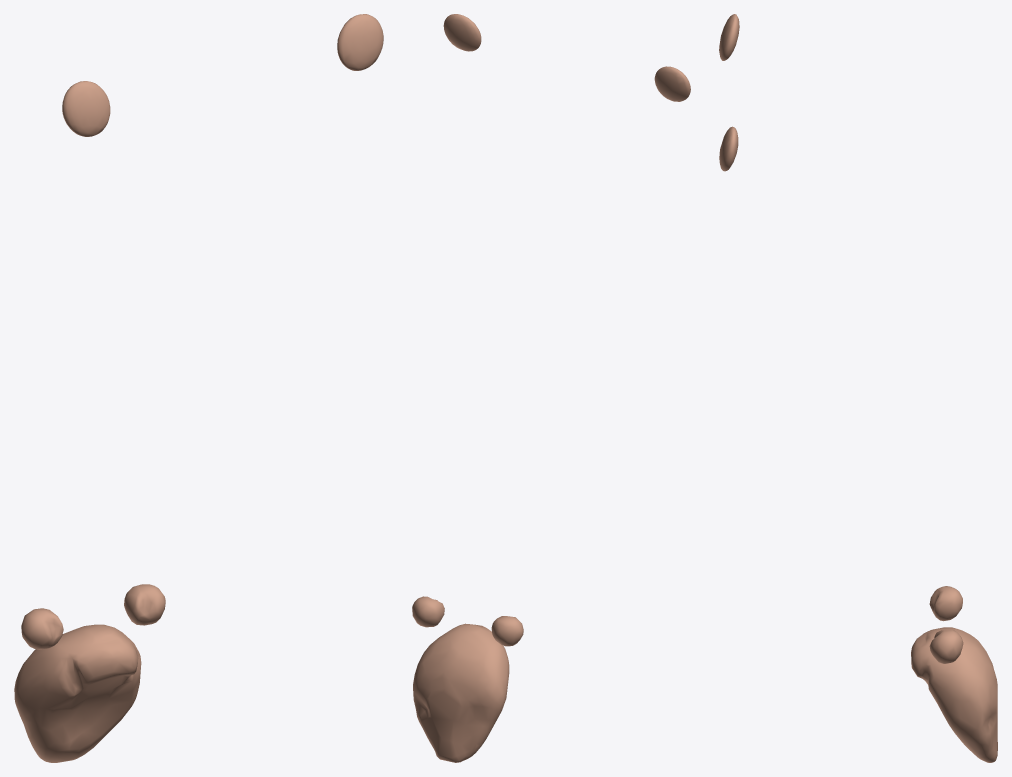
The model's file is pediatric_neonate_female.reproductive.LOD1.glb.
3 views of the same model, side by side, from view 1: azimuth 30°, elevation 25°; view 2: azimuth 150°, elevation 25°; view 3: azimuth 270°, elevation 25° (orthographic). The views are drawn at different scales.
Visible parts, largest first — view 1: PEDIATRIC.NEONATE.FEMALE.REPRODUCTIVE.UTERUS, PEDIATRIC.NEONATE.FEMALE.REPRODUCTIVE.BREAST_ADIPOSE_TISSUE. (×2), PEDIATRIC.NEONATE.FEMALE.REPRODUCTIVE.OVARY.L, PEDIATRIC.NEONATE.FEMALE.REPRODUCTIVE.OVARY.R; view 2: PEDIATRIC.NEONATE.FEMALE.REPRODUCTIVE.UTERUS, PEDIATRIC.NEONATE.FEMALE.REPRODUCTIVE.BREAST_ADIPOSE_TISSUE. (×2), PEDIATRIC.NEONATE.FEMALE.REPRODUCTIVE.OVARY.L, PEDIATRIC.NEONATE.FEMALE.REPRODUCTIVE.OVARY.R; view 3: PEDIATRIC.NEONATE.FEMALE.REPRODUCTIVE.UTERUS, PEDIATRIC.NEONATE.FEMALE.REPRODUCTIVE.BREAST_ADIPOSE_TISSUE. (×2), PEDIATRIC.NEONATE.FEMALE.REPRODUCTIVE.OVARY.R, PEDIATRIC.NEONATE.FEMALE.REPRODUCTIVE.OVARY.L.
Part boxes in pixels (bbox=[...]): PEDIATRIC.NEONATE.FEMALE.REPRODUCTIVE.UTERUS: bbox=[14, 624, 141, 762]; PEDIATRIC.NEONATE.FEMALE.REPRODUCTIVE.BREAST_ADIPOSE_TISSUE. (×2): bbox=[62, 14, 383, 136]; PEDIATRIC.NEONATE.FEMALE.REPRODUCTIVE.OVARY.L: bbox=[124, 584, 165, 625]; PEDIATRIC.NEONATE.FEMALE.REPRODUCTIVE.OVARY.R: bbox=[21, 608, 63, 649]; PEDIATRIC.NEONATE.FEMALE.REPRODUCTIVE.UTERUS: bbox=[413, 623, 509, 762]; PEDIATRIC.NEONATE.FEMALE.REPRODUCTIVE.BREAST_ADIPOSE_TISSUE. (×2): bbox=[443, 14, 690, 101]; PEDIATRIC.NEONATE.FEMALE.REPRODUCTIVE.OVARY.L: bbox=[412, 596, 444, 627]; PEDIATRIC.NEONATE.FEMALE.REPRODUCTIVE.OVARY.R: bbox=[491, 616, 523, 646]; PEDIATRIC.NEONATE.FEMALE.REPRODUCTIVE.UTERUS: bbox=[911, 627, 997, 762]; PEDIATRIC.NEONATE.FEMALE.REPRODUCTIVE.BREAST_ADIPOSE_TISSUE. (×2): bbox=[719, 14, 739, 171]; PEDIATRIC.NEONATE.FEMALE.REPRODUCTIVE.OVARY.R: bbox=[929, 586, 962, 621]; PEDIATRIC.NEONATE.FEMALE.REPRODUCTIVE.OVARY.L: bbox=[929, 630, 963, 663].
Bounding box in the file's own units: 0.062 × 0.1528 × 0.0561.
